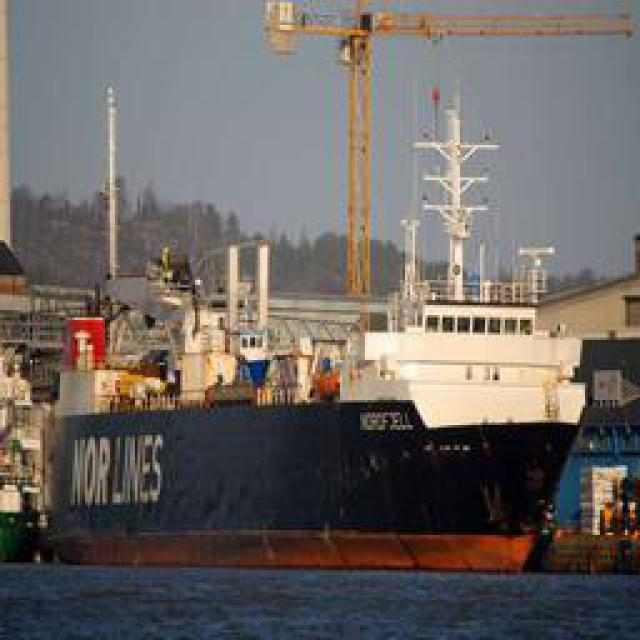Ship: (26, 76, 597, 578)
